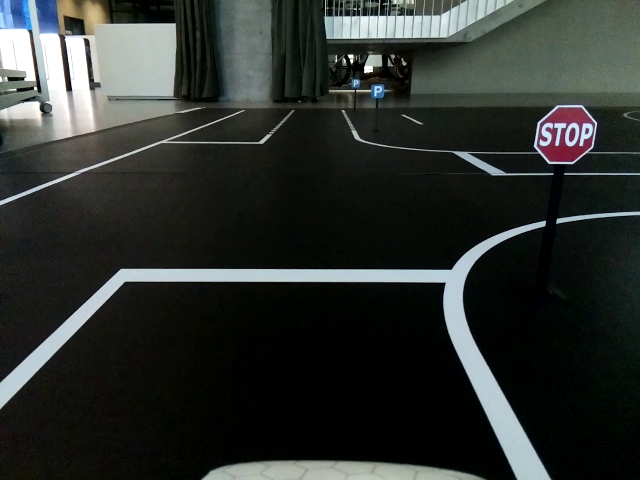stop: (531, 102, 596, 167)
